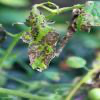Tomato leaf bacterial spot: (22, 7, 62, 73), (74, 1, 100, 33)
